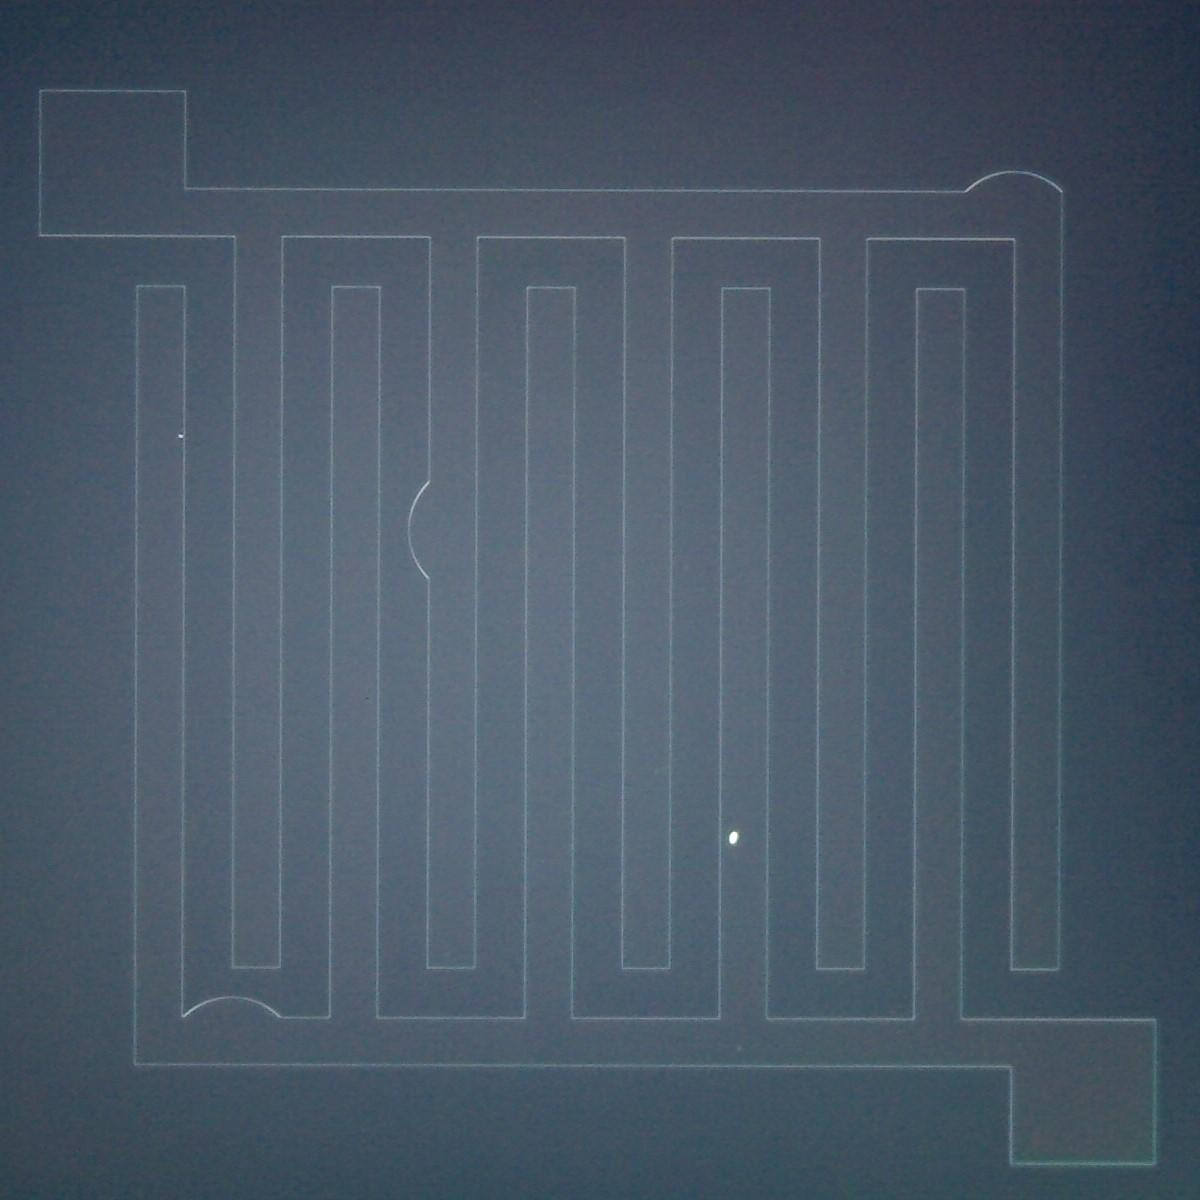B_point: (726, 829, 742, 848)
project: (956, 153, 1077, 220), (397, 464, 453, 593), (164, 987, 287, 1040)
s_point: (734, 1043, 747, 1055), (176, 432, 187, 442)
